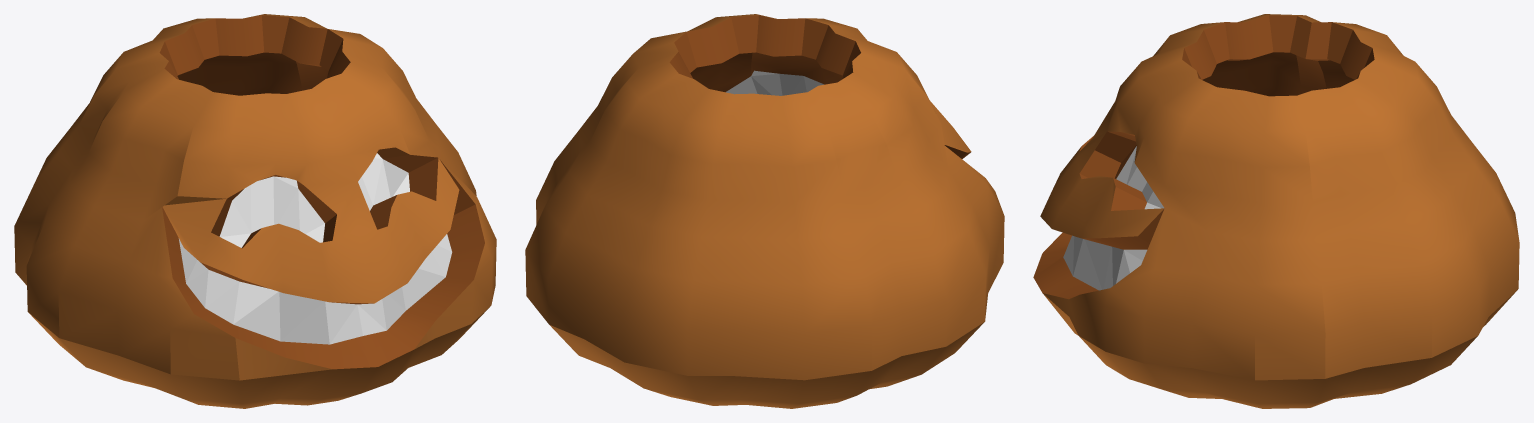
The model's file is pumpkin.fbx.
3 renders of one model, left to right at view 1: azimuth 30°, elevation 25°; view 2: azimuth 150°, elevation 25°; view 3: azimuth 270°, elevation 25°, orthographic.
Parts seen in each view (by area): view 1: SM_Halloween_PumpkinCandle_02_Halloween_Pack_M_0; view 2: SM_Halloween_PumpkinCandle_02_Halloween_Pack_M_0; view 3: SM_Halloween_PumpkinCandle_02_Halloween_Pack_M_0.
Boxes of the visible parts, <box> form: SM_Halloween_PumpkinCandle_02_Halloween_Pack_M_0: <box>14,14,496,408</box>; SM_Halloween_PumpkinCandle_02_Halloween_Pack_M_0: <box>525,14,1004,408</box>; SM_Halloween_PumpkinCandle_02_Halloween_Pack_M_0: <box>1033,14,1519,408</box>.
Size of the model in its own units: 68.77 by 47.31 by 69.4.
